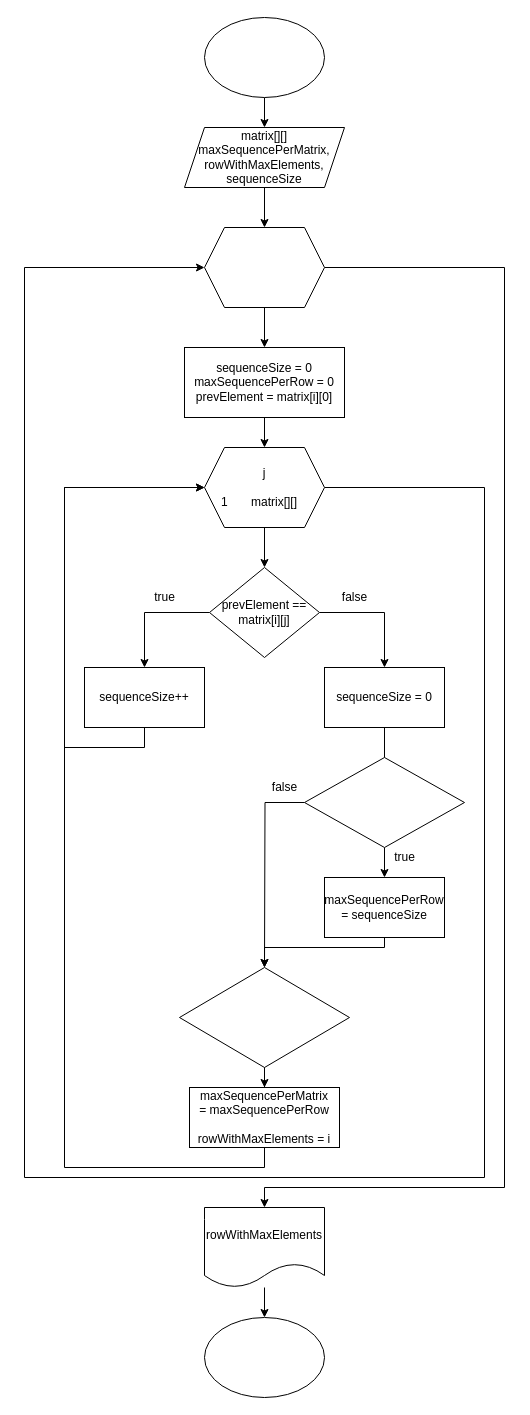
This 530x1415 diagram has some shape labels left out. The shapes that lost their labels are listed below. From the top down, each one's centre as x and y in pixels, then its label:
At point (264, 57): "начало".
At point (264, 267): "i 0 matrix[]".
At point (384, 802): "sequenceSize > maxSequencePerRow".
At point (264, 1017): "maxSequencePerRow > maxSequencePerMatrix".
At point (264, 1357): "конец".
